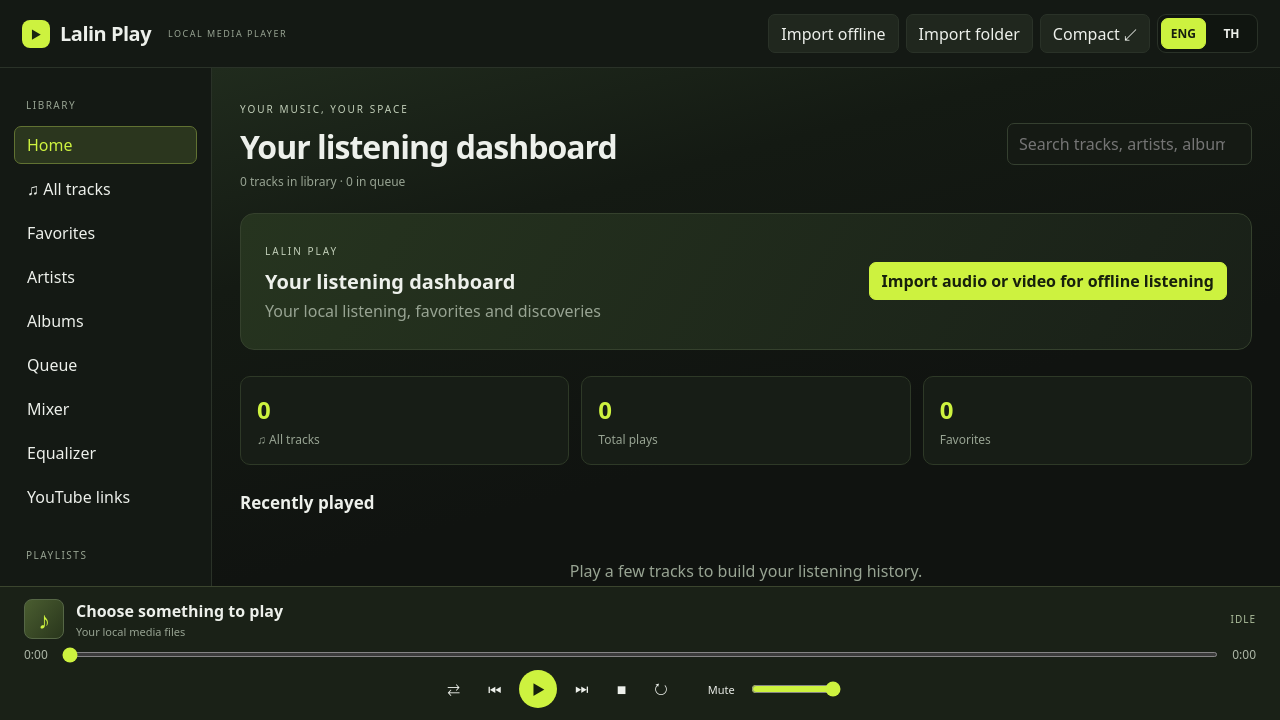
Test case: standalone surfaces (mocked IPC; native evidence is separate) › filters reopened favorites and renders persisted USER and OFFLINE badges
Step 1. Click the button "Favorites" → (106, 233), box [14, 214, 197, 252]
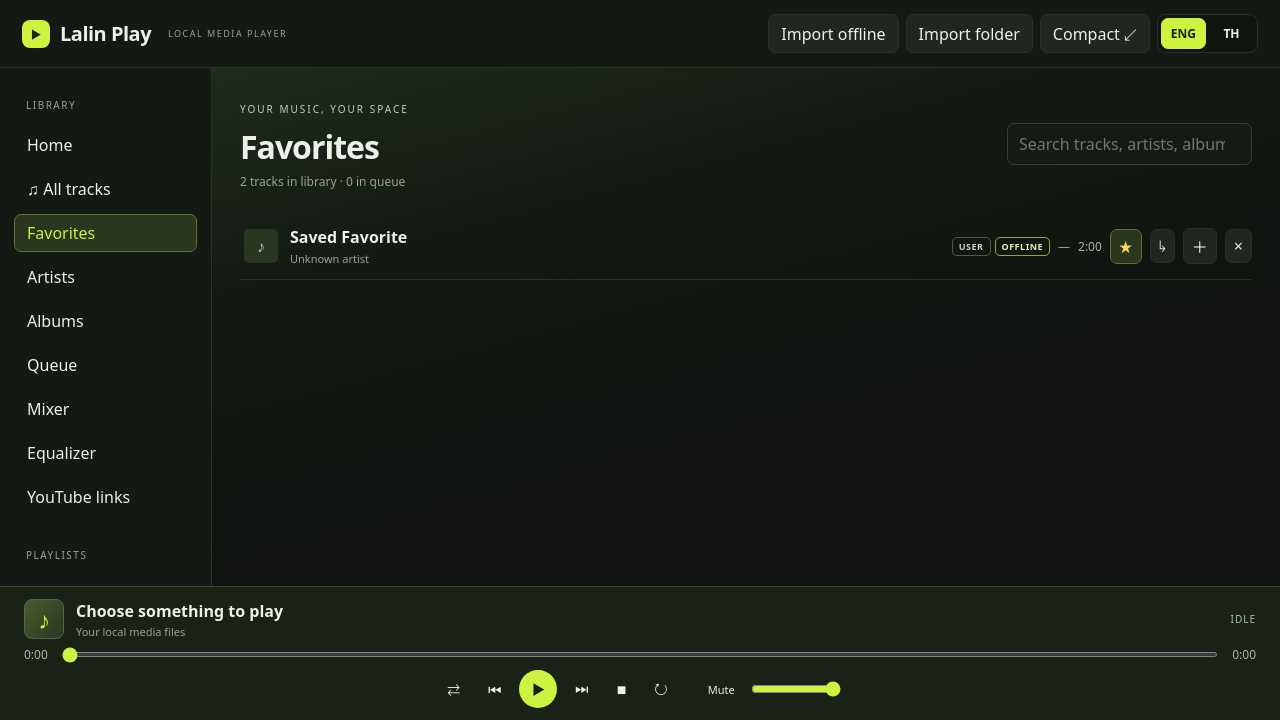
Expected: the text "OFFLINE" is shown, [994, 237, 1050, 256]
Expected: the text "Saved Favorite" is shown, [290, 226, 407, 248]
Expected: the text "USER" is shown, [952, 237, 991, 256]
